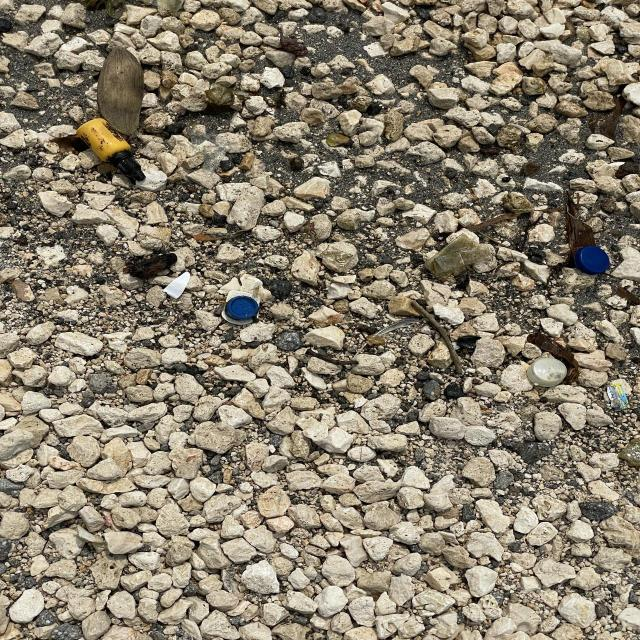plastic_waste: (576, 246, 612, 274), (226, 296, 261, 321)
